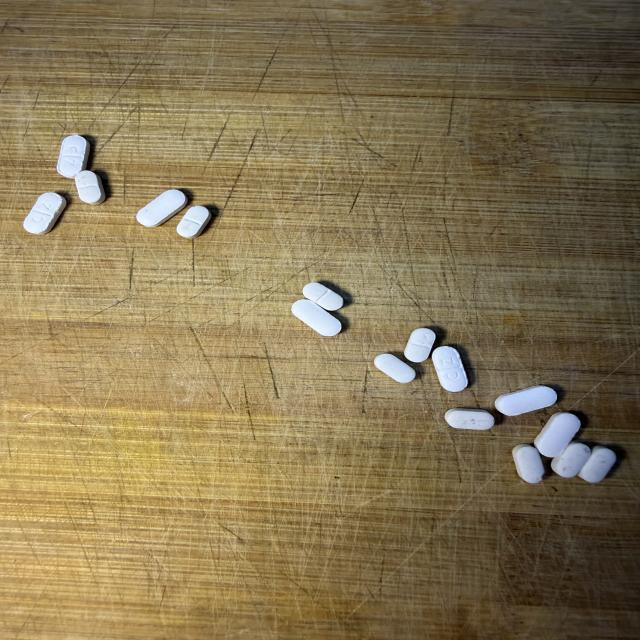pill: (534, 412, 580, 457), (137, 190, 187, 227), (292, 299, 341, 336), (495, 386, 557, 415), (24, 193, 66, 234), (432, 347, 467, 391), (578, 446, 616, 483), (57, 135, 89, 178), (551, 442, 590, 477), (513, 444, 544, 483), (374, 354, 415, 383), (177, 206, 211, 238), (303, 283, 343, 310), (404, 328, 435, 362), (75, 171, 105, 204), (445, 409, 494, 429)
